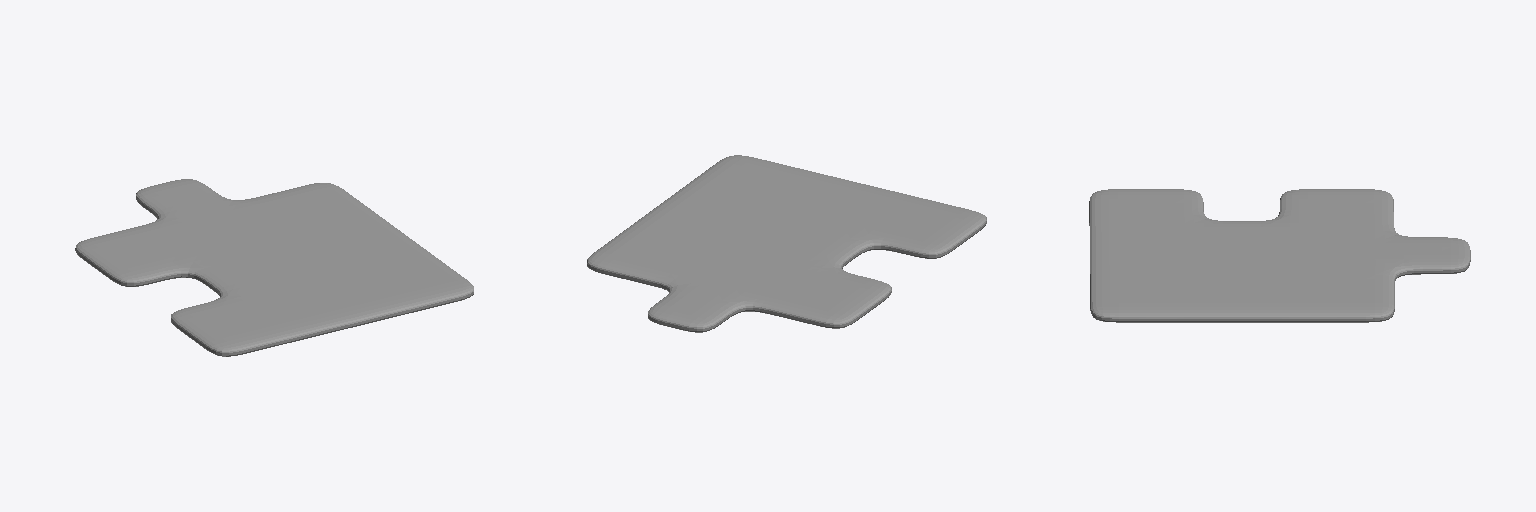
3 views of the same model, side by side, from view 1: azimuth 30°, elevation 25°; view 2: azimuth 150°, elevation 25°; view 3: azimuth 270°, elevation 25° (orthographic).
Parts seen in each view (by area): view 1: Puzzle.020_Puzzle.020_GoldenEggMaterial; view 2: Puzzle.020_Puzzle.020_GoldenEggMaterial; view 3: Puzzle.020_Puzzle.020_GoldenEggMaterial.
Part boxes in pixels (x1,y1,x2,y2): Puzzle.020_Puzzle.020_GoldenEggMaterial: (75,179,473,356); Puzzle.020_Puzzle.020_GoldenEggMaterial: (587,155,986,332); Puzzle.020_Puzzle.020_GoldenEggMaterial: (1089,189,1470,322).
Size of the model in its own units: 0.25 by 0.0092 by 0.3137.